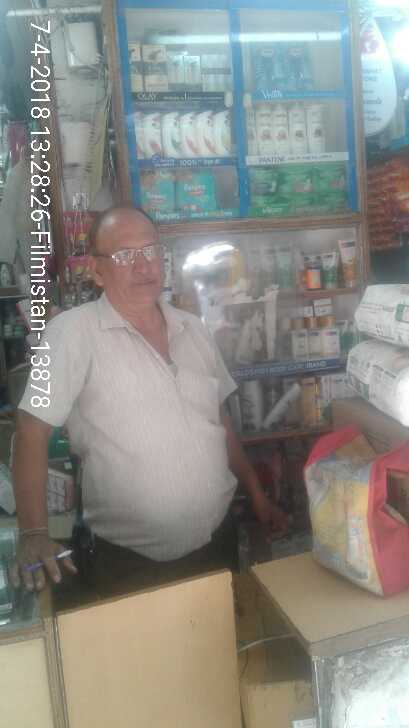venus: (253, 38, 282, 90), (283, 38, 311, 90)
